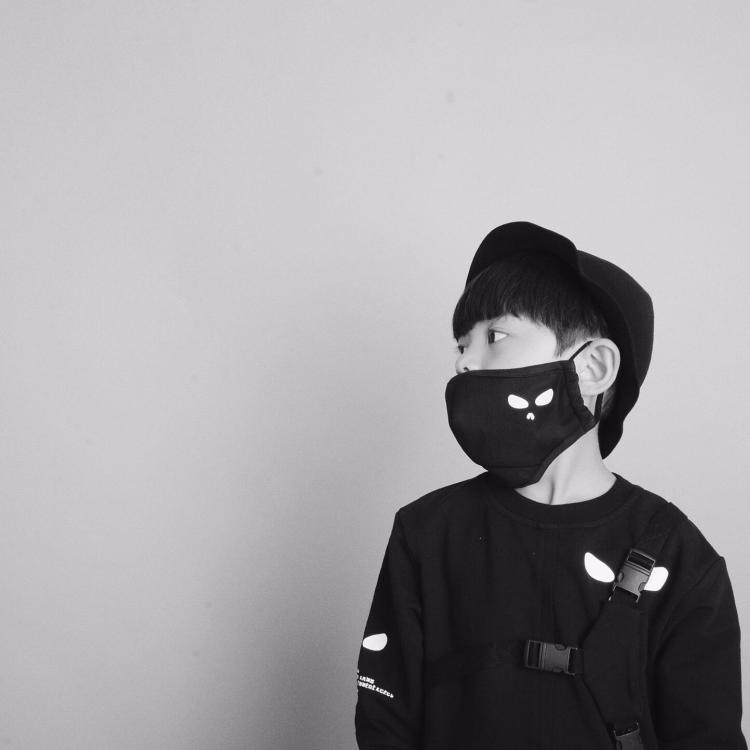face_mask: (448, 283, 576, 447)
